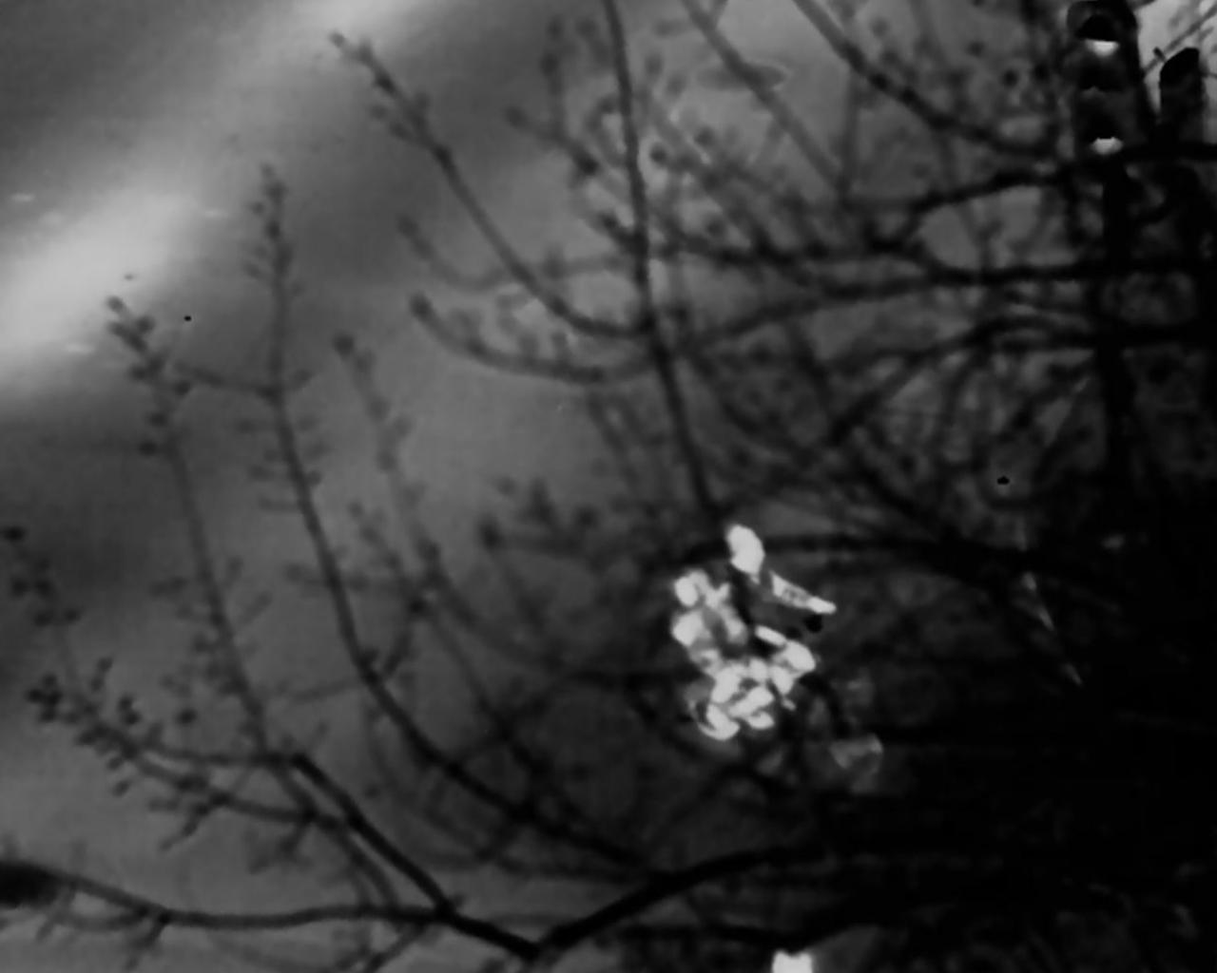person: (733, 525, 830, 741), (673, 560, 744, 735)
